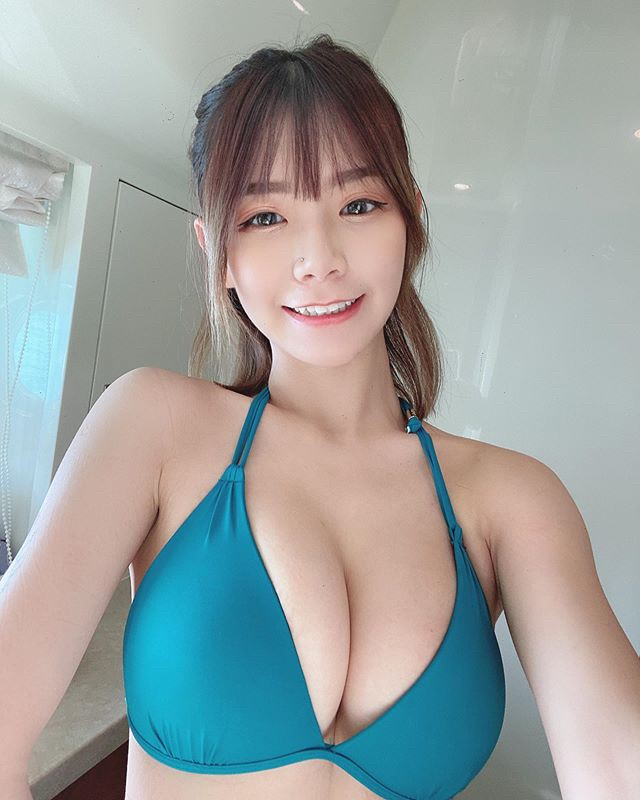people: (154, 56, 497, 800)
